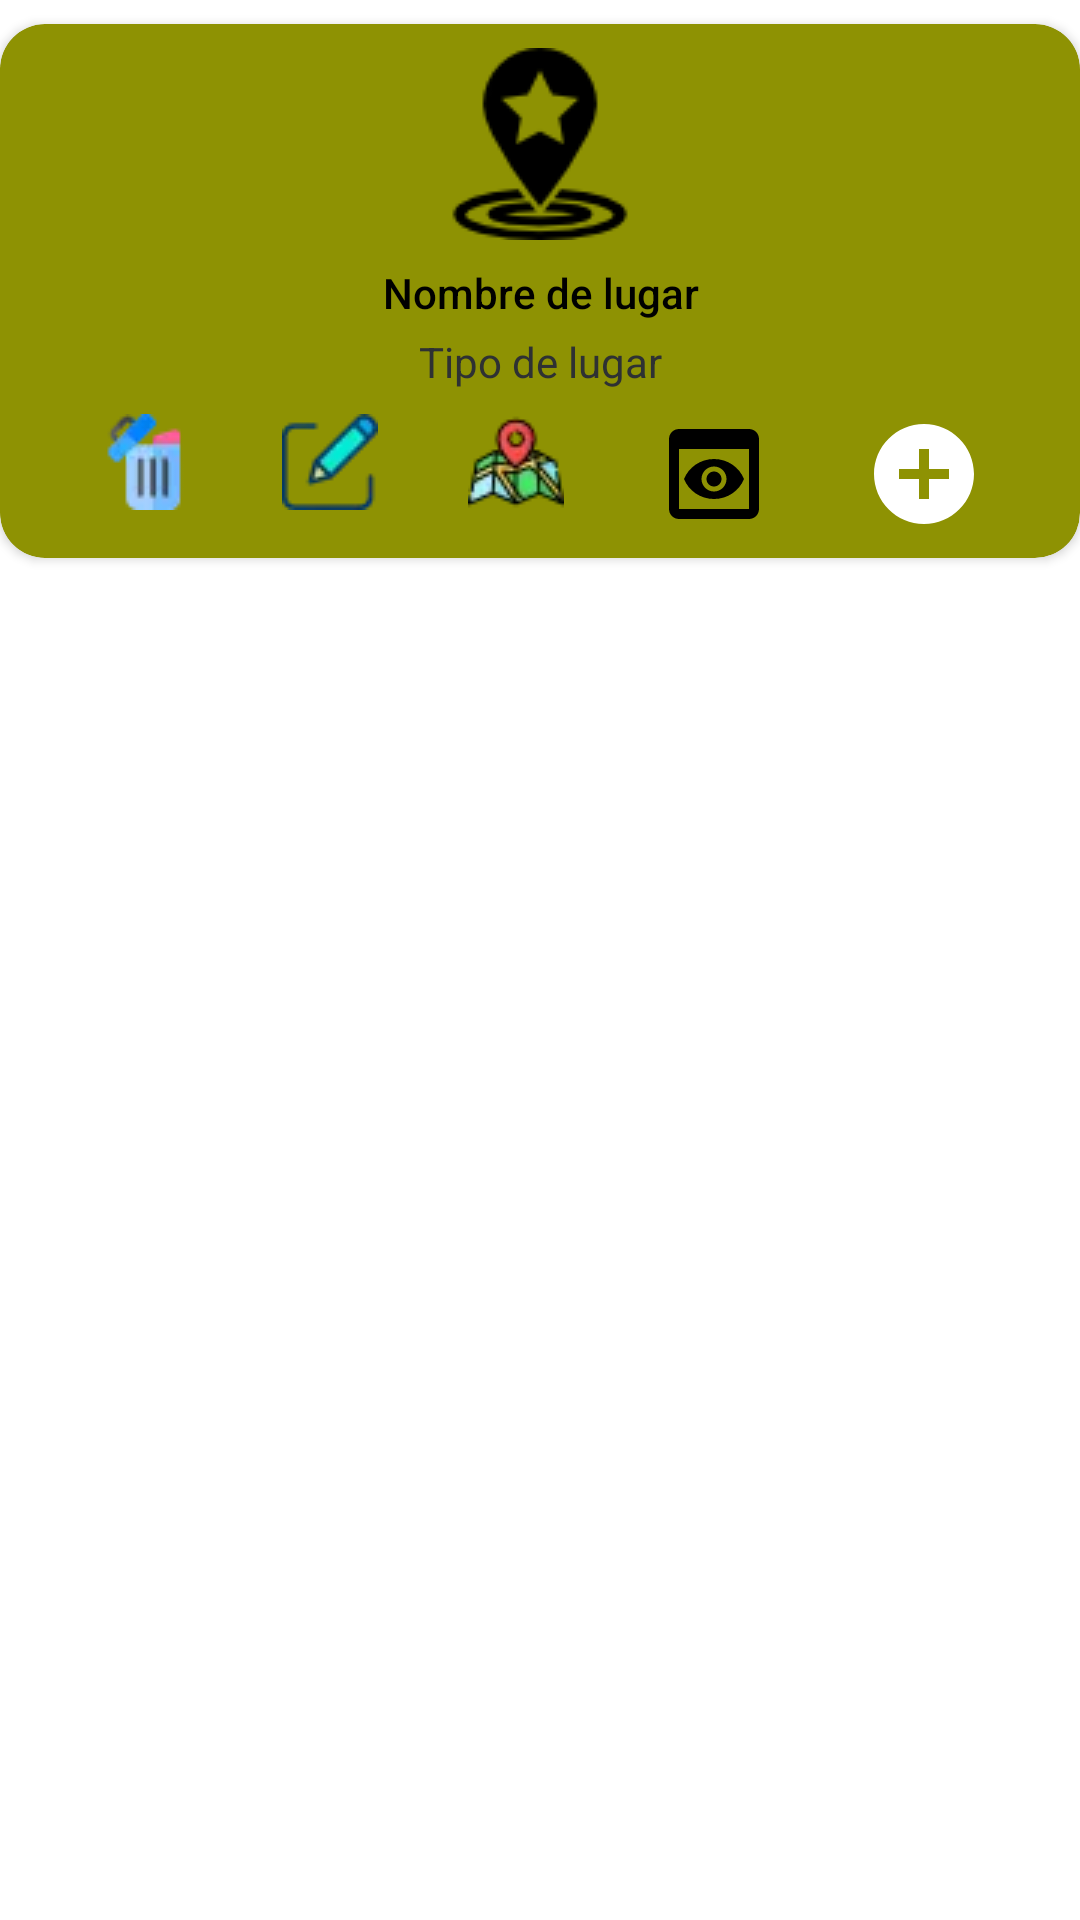

Screen size 1080w x 1920h. Icon name, then its center in pixels as [x,y]:
add circle: [924,474]
editar: [330,462]
eliminar: [144,462]
lugar favorito: [540,144]
maps: [516,462]
